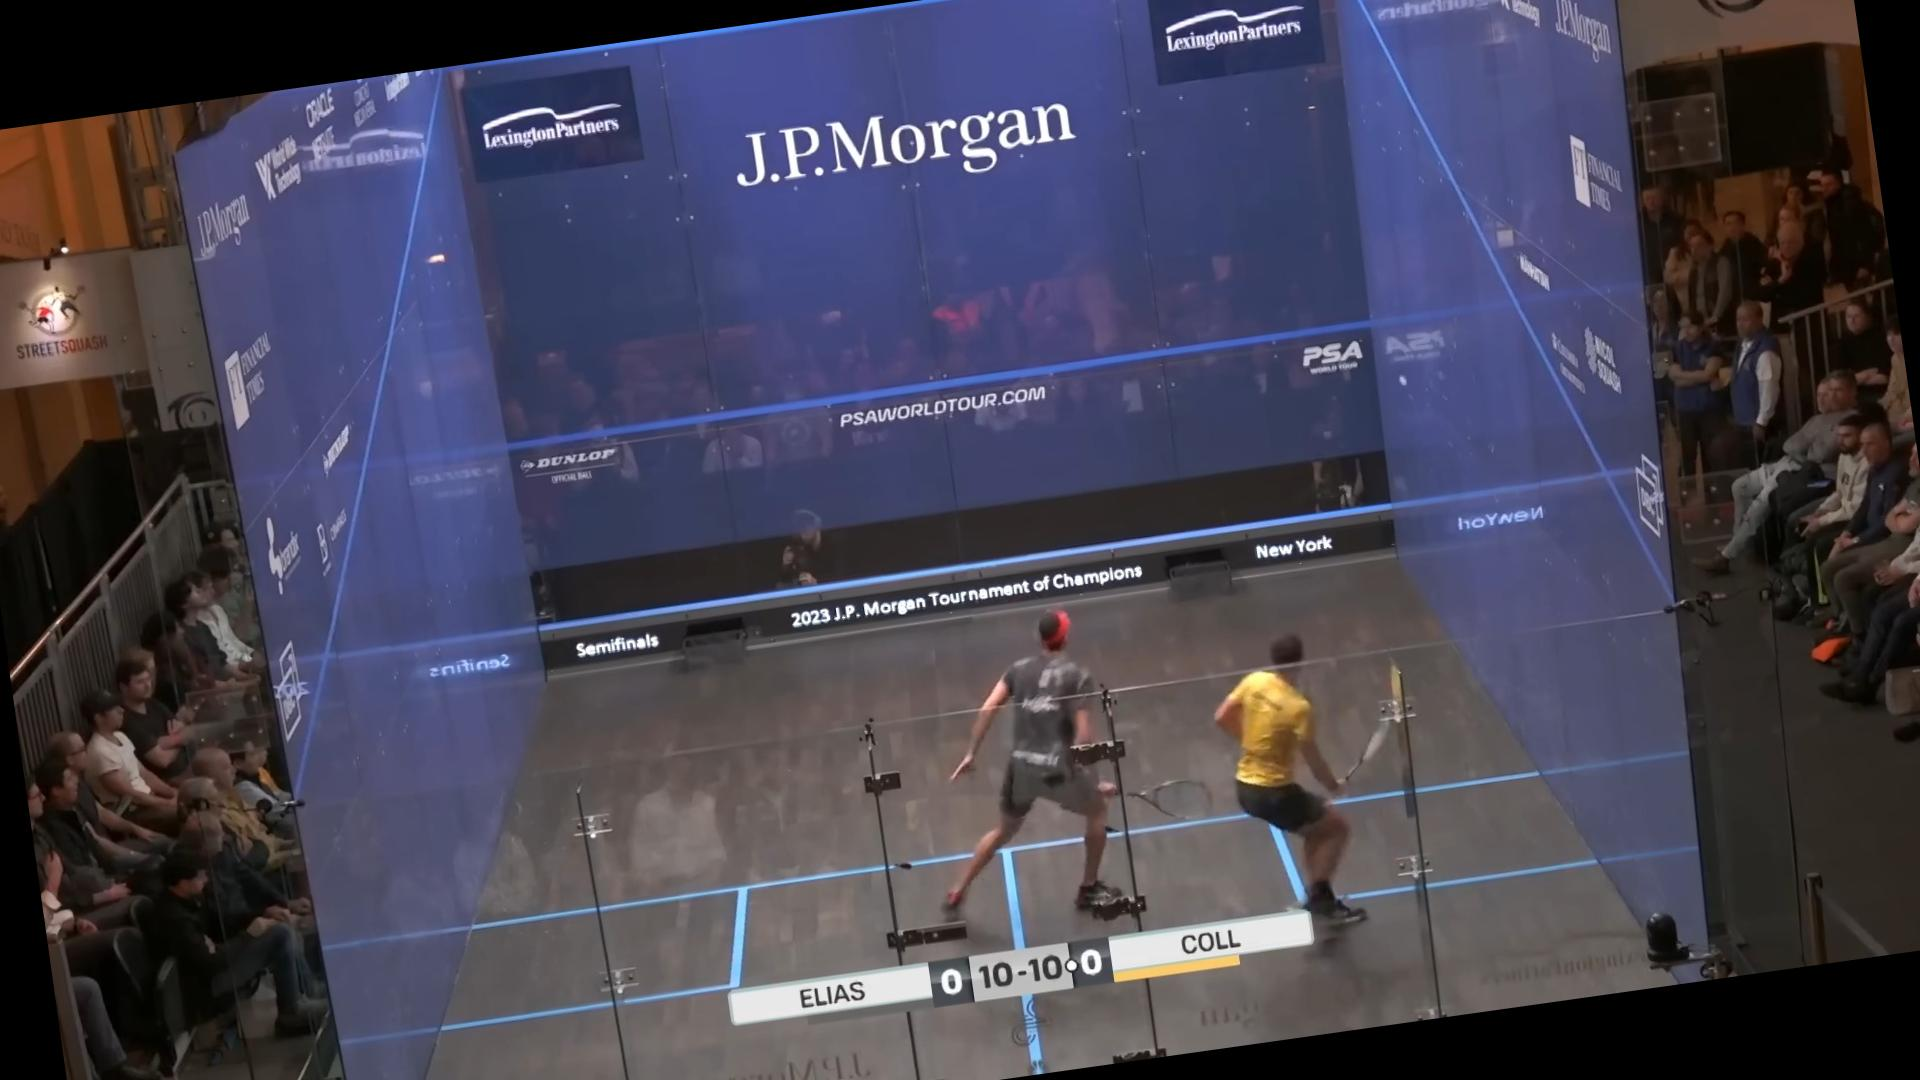Racket: (1109, 767, 1224, 837), (1333, 696, 1415, 786)
